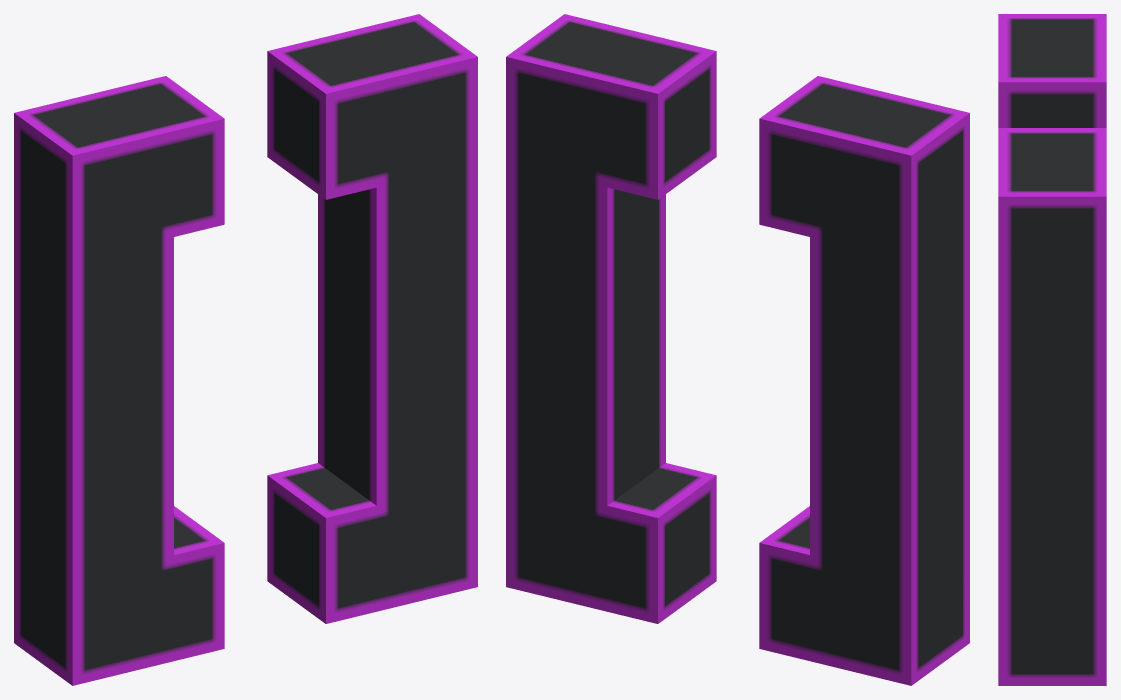
The model's file is PacMan_Home.fbx.
3 renders of one model, left to right at view 1: azimuth 30°, elevation 25°; view 2: azimuth 150°, elevation 25°; view 3: azimuth 270°, elevation 25°, orthographic. The views are drawn at different scales.
Parts seen in each view (by area): view 1: Matrix; view 2: Matrix; view 3: Matrix.
Part boxes in pixels (x1,y1,x2,y2): Matrix: (14,14,477,685); Matrix: (506,14,969,685); Matrix: (998,14,1106,685).
Bounding box in the file's own units: 40 × 50 × 10.
Materials: 1 (1 with a texture image).
